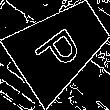P_NE: (32, 17, 89, 76)
